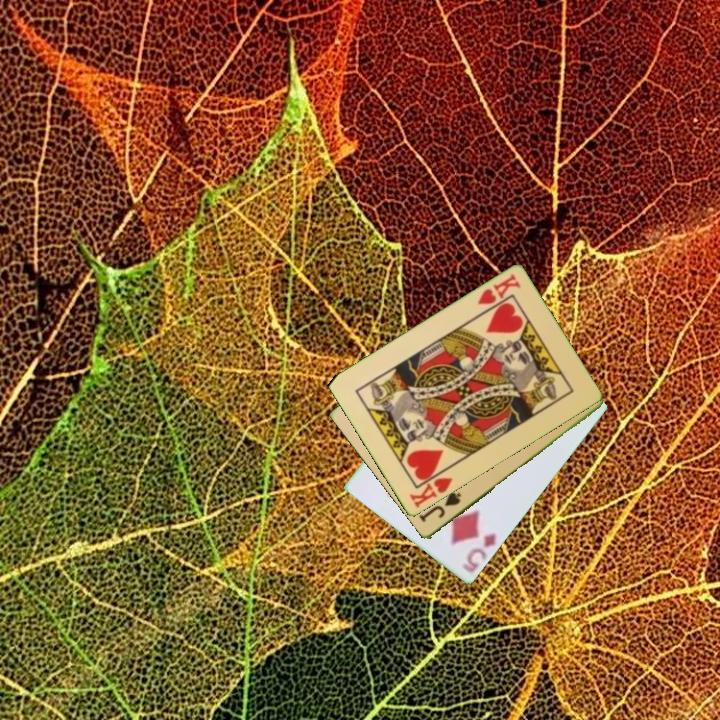5d: (458, 529, 499, 577)
Js: (416, 489, 464, 525)
Kh: (405, 465, 455, 511), (473, 270, 524, 308)
